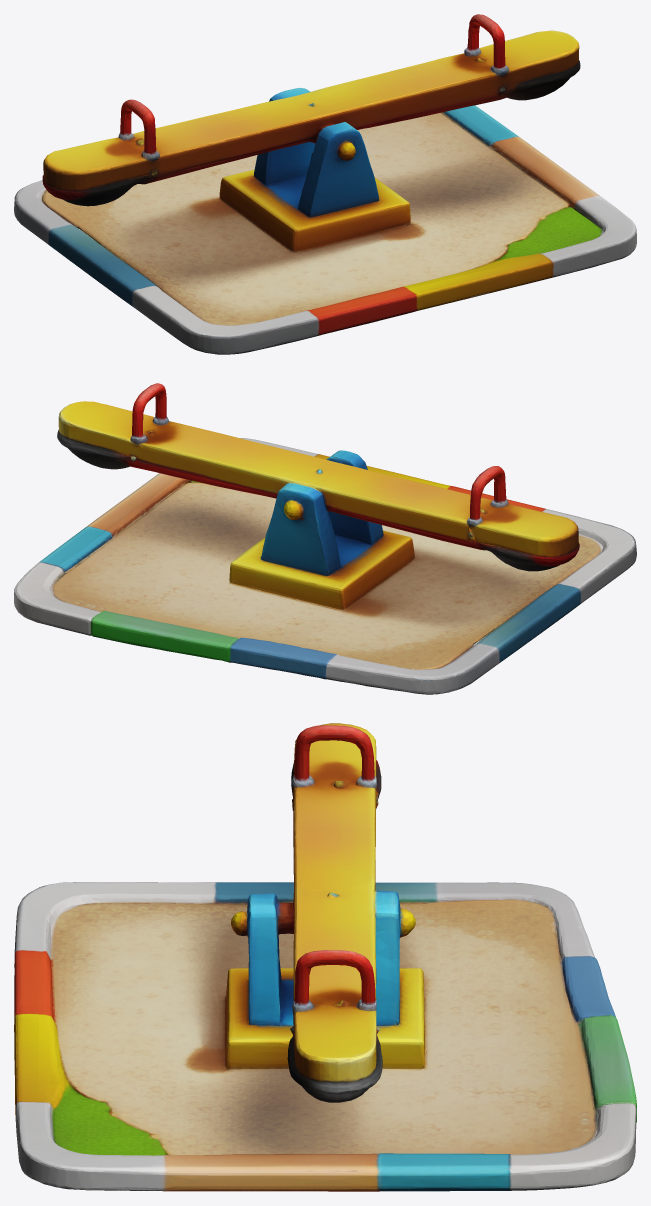
File: seesaw.glb
The picture shows the model from 3 angles, top to bottom: view 1: azimuth 30°, elevation 25°; view 2: azimuth 150°, elevation 25°; view 3: azimuth 270°, elevation 25°; orthographic projection. The views are drawn at different scales.
Parts seen in each view (by area): view 1: world.002; view 2: world.002; view 3: world.002.
Boxes of the visible parts, <box> form: world.002: <box>14,14,636,354</box>; world.002: <box>14,383,636,694</box>; world.002: <box>14,723,636,1191</box>.
Size of the model in its own units: 0.9987 by 0.2898 by 0.7709.
1 material, 1 textured.
